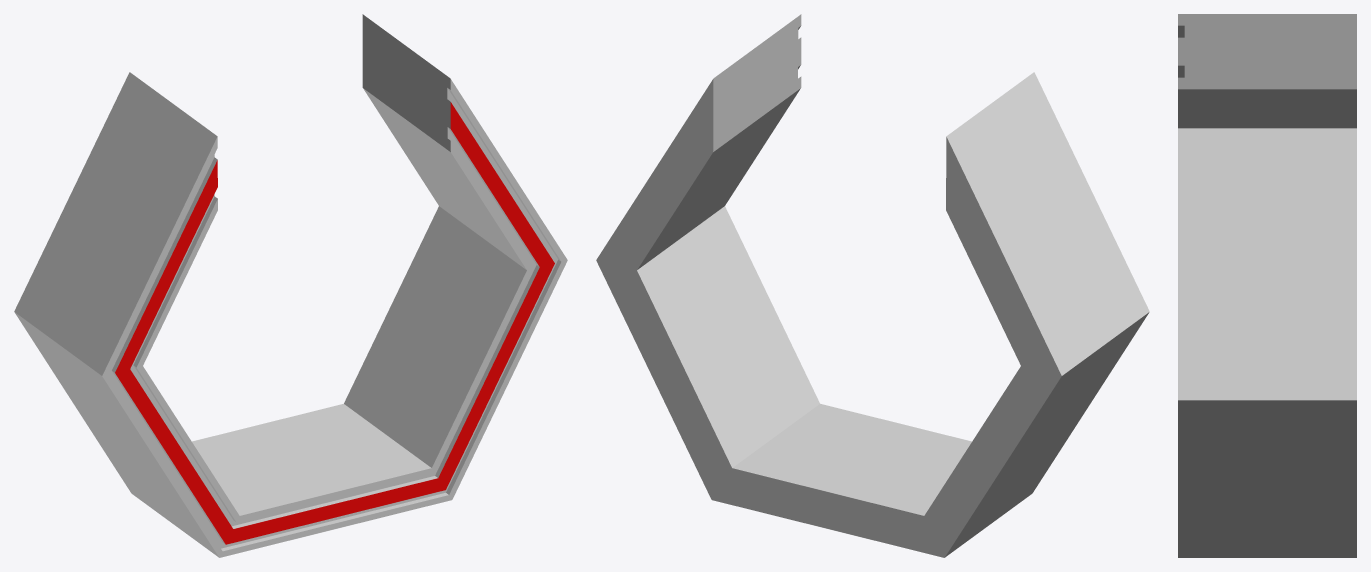
Rendered from bridge section 6.obj.
The picture shows the model from 3 angles, left to right: view 1: azimuth 30°, elevation 25°; view 2: azimuth 150°, elevation 25°; view 3: azimuth 270°, elevation 25°; orthographic projection.
Visible parts, largest first — view 1: object1; view 2: object1; view 3: object1.
Boxes of the visible parts, x1,y1,x2,y2 form: object1: (14,14,567,557); object1: (596,14,1149,557); object1: (1178,14,1356,557).
Bounding box in the file's own units: 16.81 × 14.6 × 5.5.
